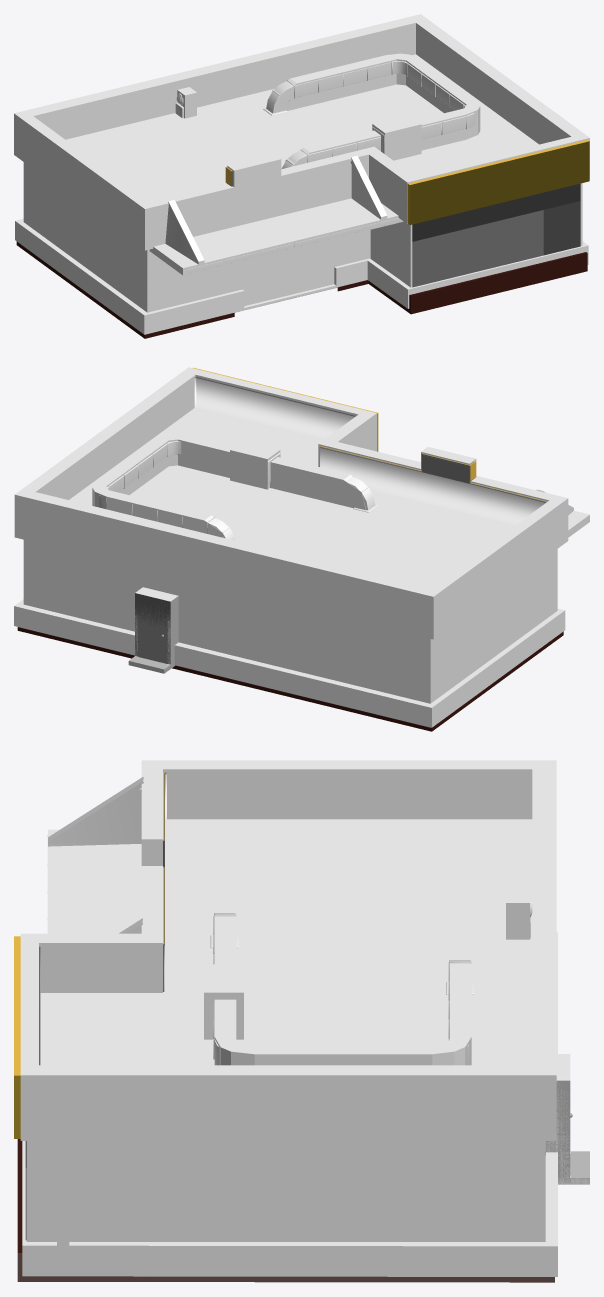
File: s_gasstation_tyrannos_shop.dae
The picture shows the model from 3 angles, top to bottom: view 1: azimuth 30°, elevation 25°; view 2: azimuth 150°, elevation 25°; view 3: azimuth 270°, elevation 25°; orthographic projection. The views are drawn at different scales.
Parts seen in each view (by area): view 1: Colmesh_jv_shop-1, jv_shop_L10, jv_shop_L800; view 2: Colmesh_jv_shop-1, jv_shop_L800, jv_shop_L10; view 3: Colmesh_jv_shop-1, jv_shop_L10, jv_shop_L800.
Part boxes in pixels (x1,y1,x2,y2): Colmesh_jv_shop-1: [14, 14, 589, 334]; jv_shop_L10: [16, 140, 589, 338]; jv_shop_L800: [175, 60, 474, 312]; Colmesh_jv_shop-1: [14, 367, 589, 727]; jv_shop_L800: [18, 376, 546, 727]; jv_shop_L10: [17, 367, 563, 731]; Colmesh_jv_shop-1: [20, 760, 589, 1276]; jv_shop_L10: [14, 771, 589, 1282]; jv_shop_L800: [39, 771, 589, 1241].
Bounding box in the file's own units: 1697 × 1312 × 592.
